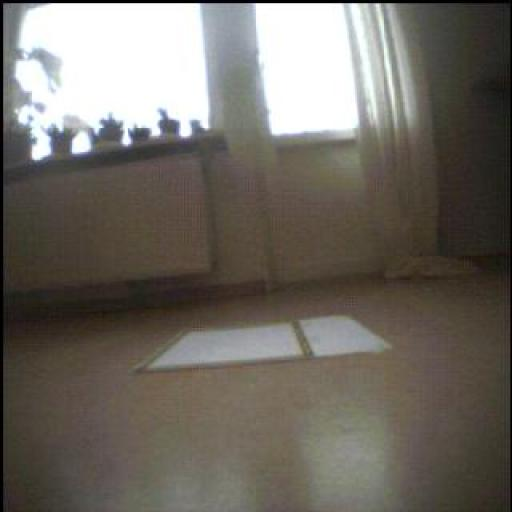Pad: (127, 319, 386, 372)
